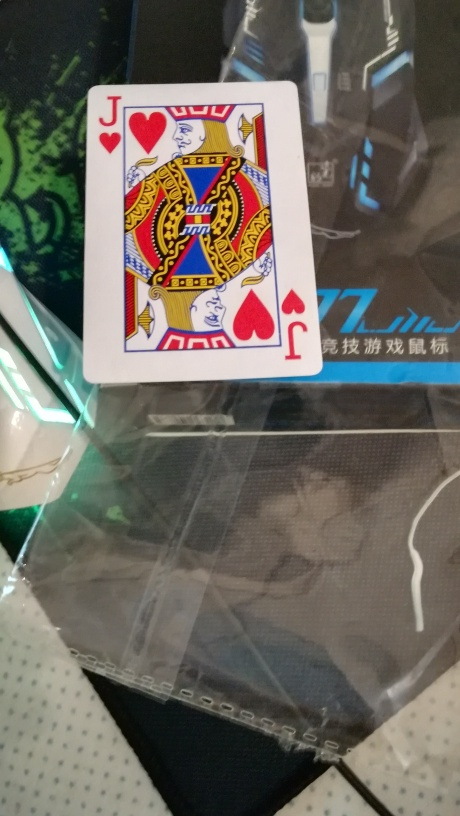hx j: (84, 78, 326, 384)
